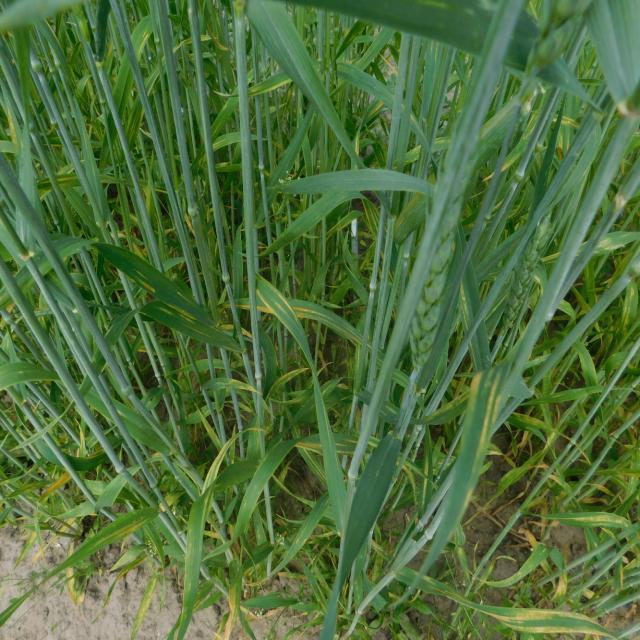Yellow Rust: (255, 274, 314, 372), (474, 604, 614, 637)
